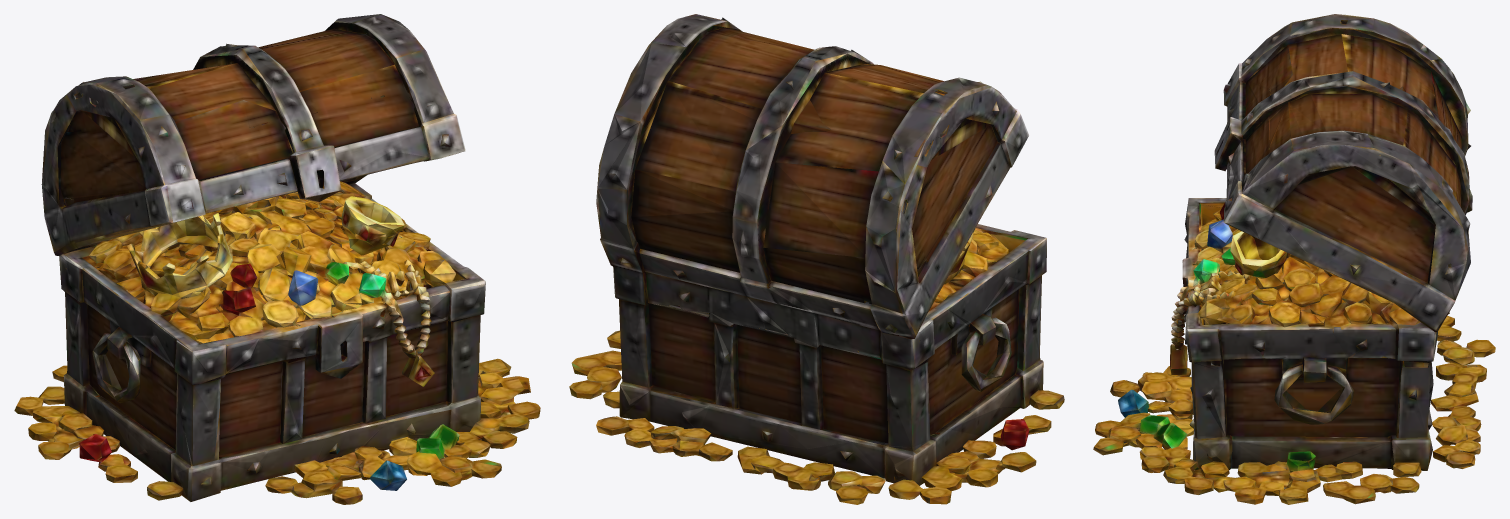
The model's file is treasure_chestWithMesh_00001_.glb.
3 renders of one model, left to right at view 1: azimuth 30°, elevation 25°; view 2: azimuth 150°, elevation 25°; view 3: azimuth 270°, elevation 25°, orthographic. The views are drawn at different scales.
Parts seen in each view (by area): view 1: geometry_0; view 2: geometry_0; view 3: geometry_0.
Boxes of the visible parts, <box> form: geometry_0: <box>14,14,540,504</box>; geometry_0: <box>569,14,1064,504</box>; geometry_0: <box>1093,14,1495,504</box>.
Bounding box in the file's own units: 0.9971 × 0.7801 × 0.8482.
1 material, 1 textured.
